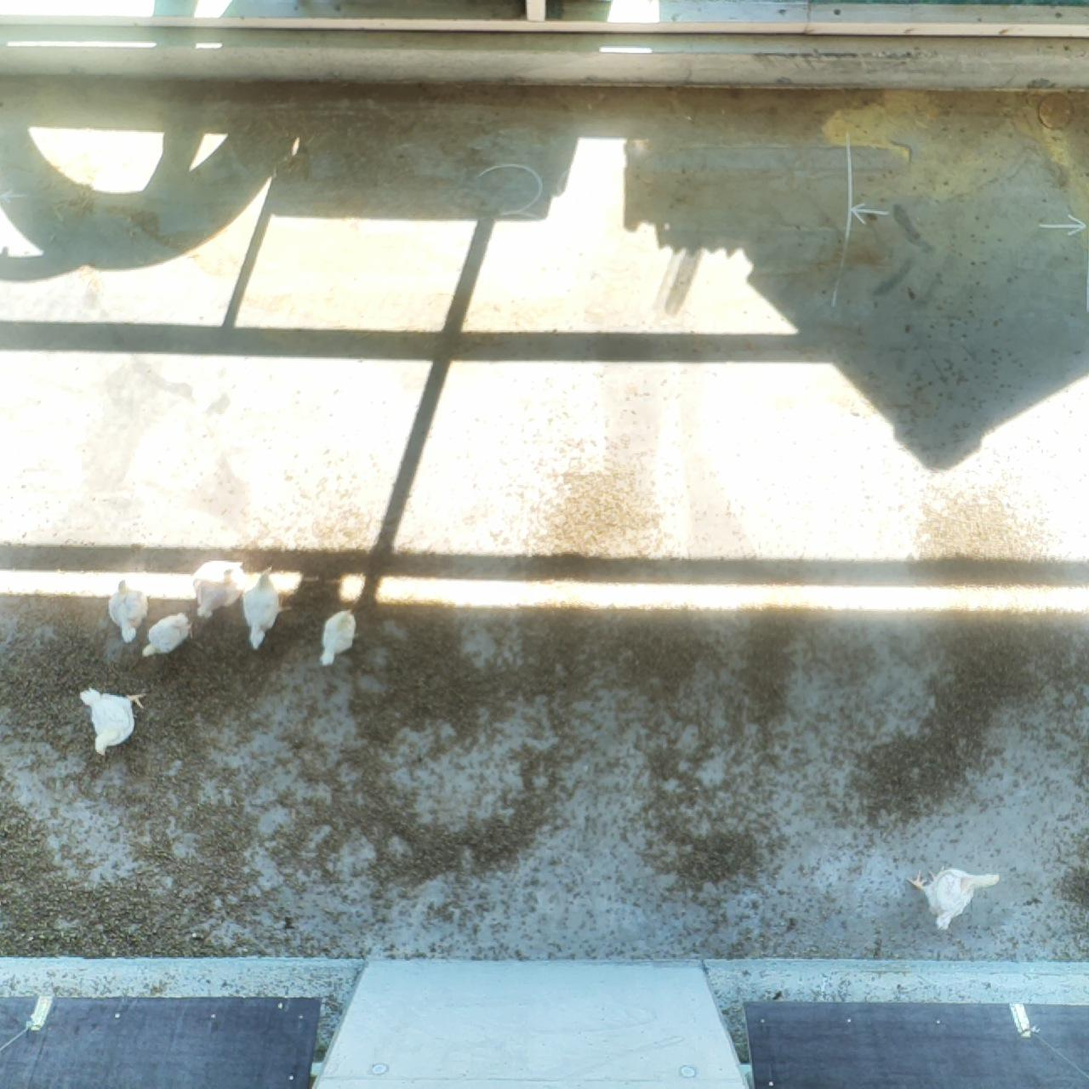chicken: (901, 862, 1002, 934), (78, 683, 148, 758), (241, 563, 293, 652), (190, 558, 246, 623), (106, 579, 150, 643), (139, 610, 194, 659), (319, 607, 361, 664)
